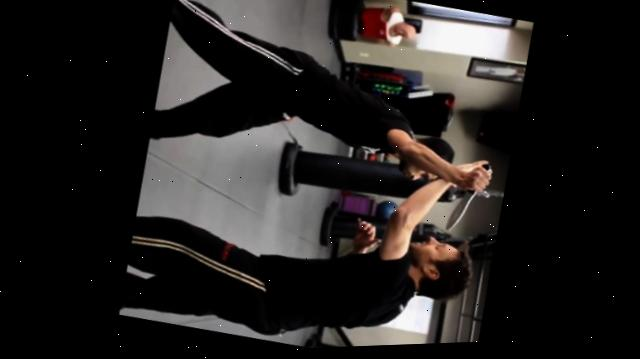long knife: (434, 154, 504, 247)
